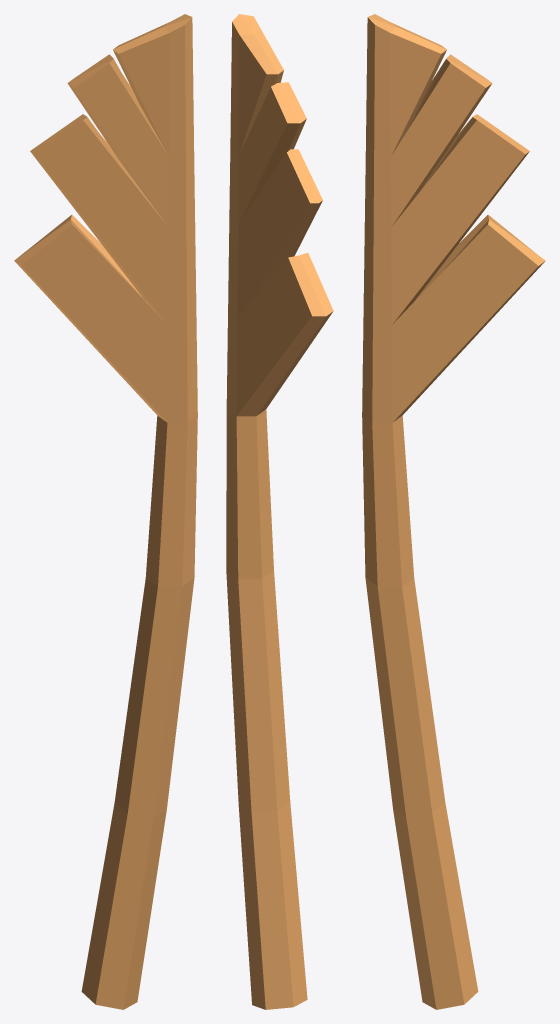
The model's file is Mushroom's Weapon.fbx.
The picture shows the model from 3 angles, left to right: view 1: azimuth 90°, elevation 25°; view 2: azimuth 210°, elevation 25°; view 3: azimuth 270°, elevation 25°; orthographic projection. The views are drawn at different scales.
Visible parts, largest first — view 1: Cylinder.003; view 2: Cylinder.003; view 3: Cylinder.003.
Boxes of the visible parts, x1,y1,x2,y2 form: Cylinder.003: (14,14,197,1009); Cylinder.003: (226,14,333,1009); Cylinder.003: (362,14,545,1009).
Size of the model in its own units: 14.52 by 320 by 54.03.
